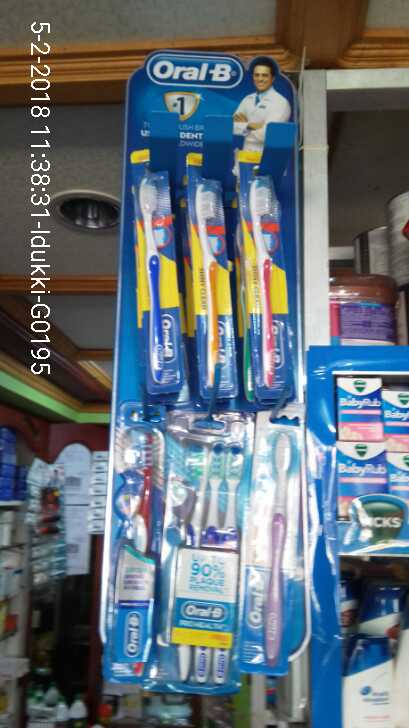pharmacy: (156, 408, 235, 688), (234, 160, 298, 392), (252, 402, 306, 673), (129, 160, 188, 393), (119, 405, 159, 691), (187, 166, 236, 390), (331, 441, 384, 513), (334, 373, 387, 441)
